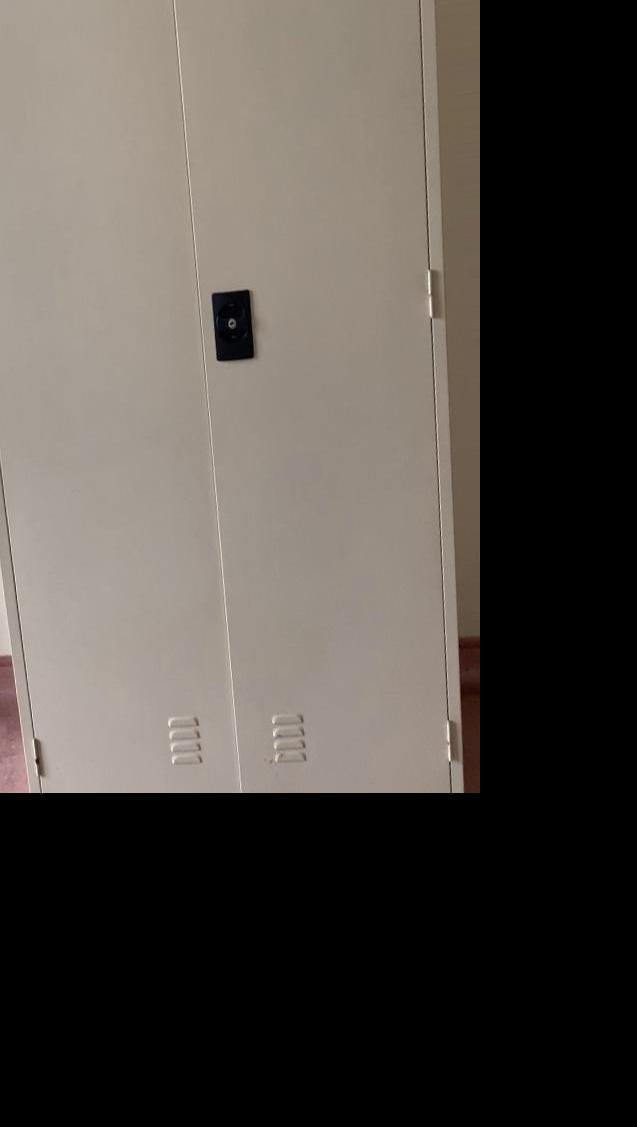Armario: (0, 0, 478, 766)
